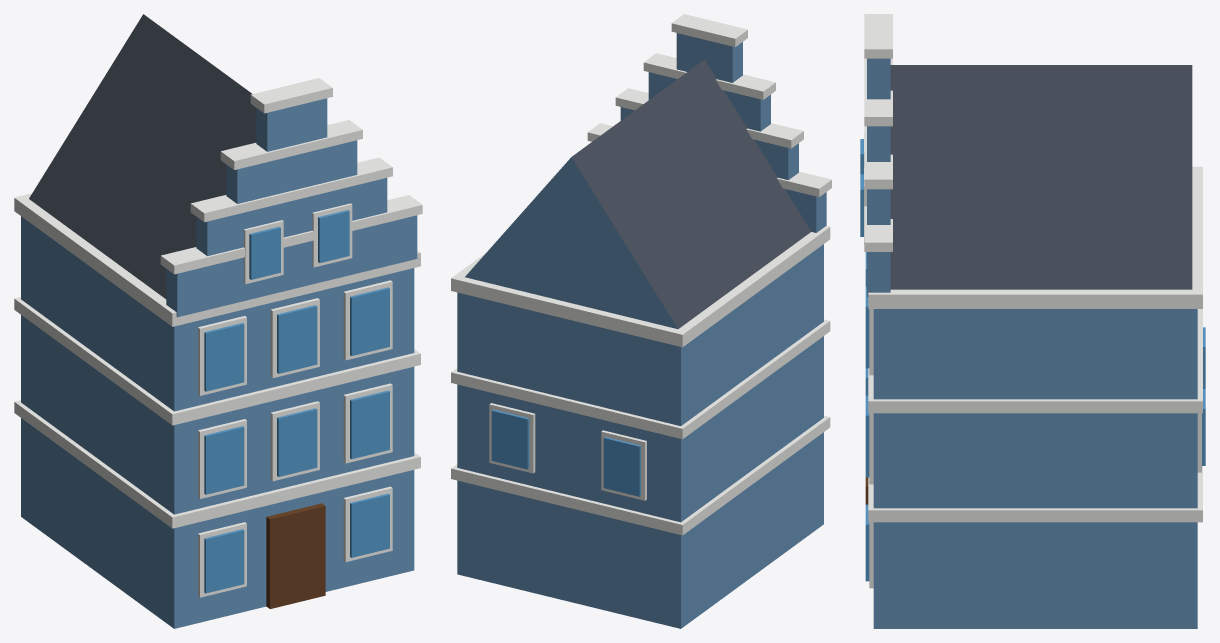
The model's file is 15_stepped_gable_3.obj.
3 views of the same model, side by side, from view 1: azimuth 30°, elevation 25°; view 2: azimuth 150°, elevation 25°; view 3: azimuth 270°, elevation 25° (orthographic). The views are drawn at different scales.
Visible parts, largest first — view 1: 15_stepped_gable_3; view 2: 15_stepped_gable_3; view 3: 15_stepped_gable_3.
Part boxes in pixels (x1,y1,x2,y2): 15_stepped_gable_3: (14,14,422,628); 15_stepped_gable_3: (451,14,831,628); 15_stepped_gable_3: (860,14,1205,628).
Size of the model in its own units: 1.16 by 2.26 by 1.32.
